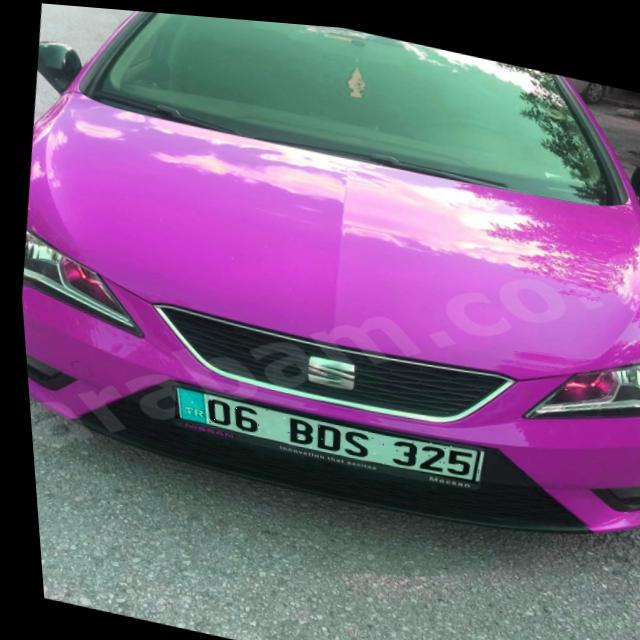license_plate: (166, 383, 477, 478)
